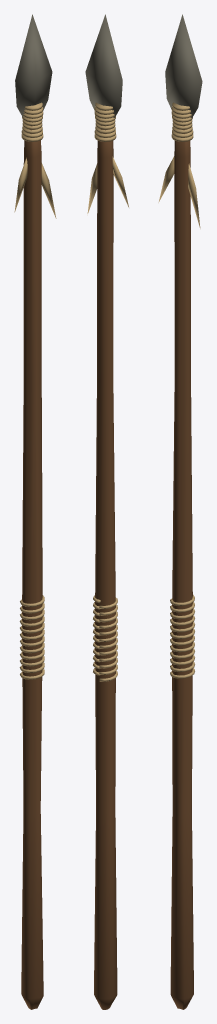
Rendered from spear.glb.
The picture shows the model from 3 angles, left to right: view 1: azimuth 30°, elevation 25°; view 2: azimuth 150°, elevation 25°; view 3: azimuth 330°, elevation 25°; orthographic projection.
Visible parts, largest first — view 1: Spear; view 2: Spear; view 3: Spear.
Boxes of the visible parts, x1,y1,x2,y2 form: Spear: (14,14,56,1009); Spear: (85,14,128,1009); Spear: (158,14,202,1009).
Bounding box in the file's own units: 0.08 × 1.8 × 0.0413.
